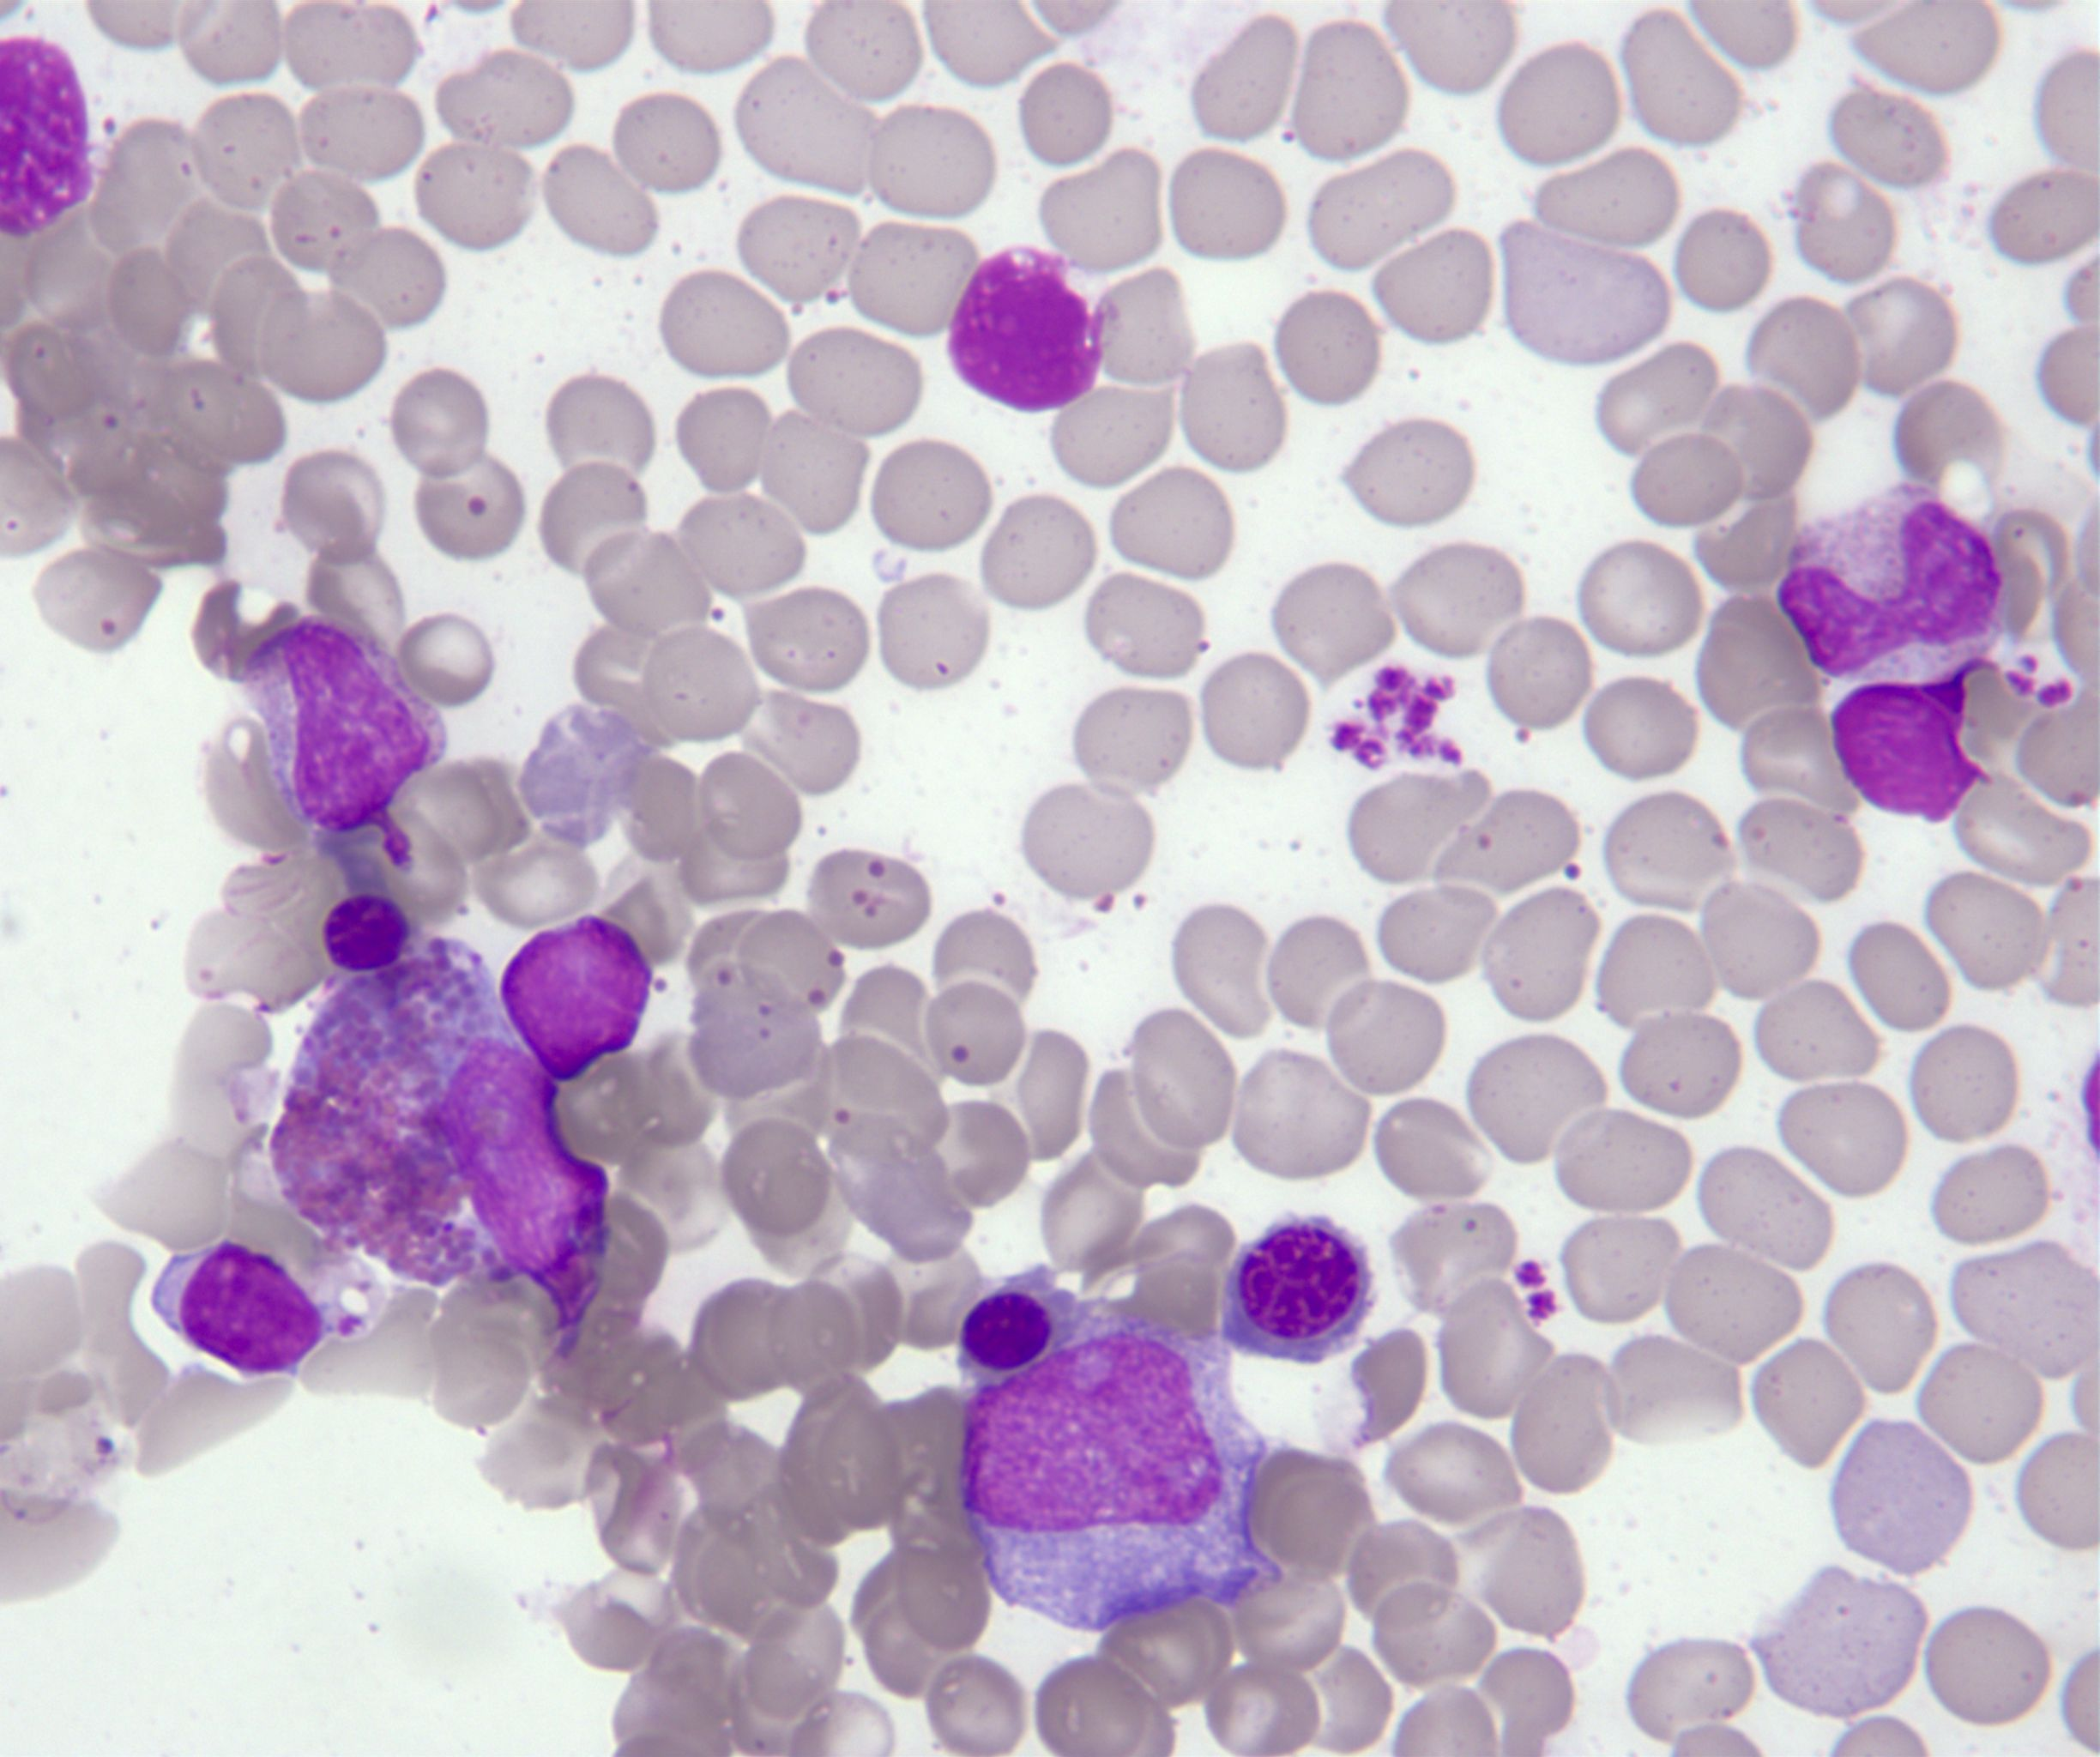23: (1217, 1204, 1369, 1366)
24: (947, 1258, 1066, 1377), (314, 886, 412, 977)
3: (958, 1323, 1282, 1638), (241, 609, 452, 837)
32: (143, 1235, 326, 1389)
4: (1776, 478, 2004, 680)
E1: (272, 933, 609, 1330)
x: (945, 244, 1109, 417), (497, 907, 654, 1085), (1828, 670, 1988, 827)
